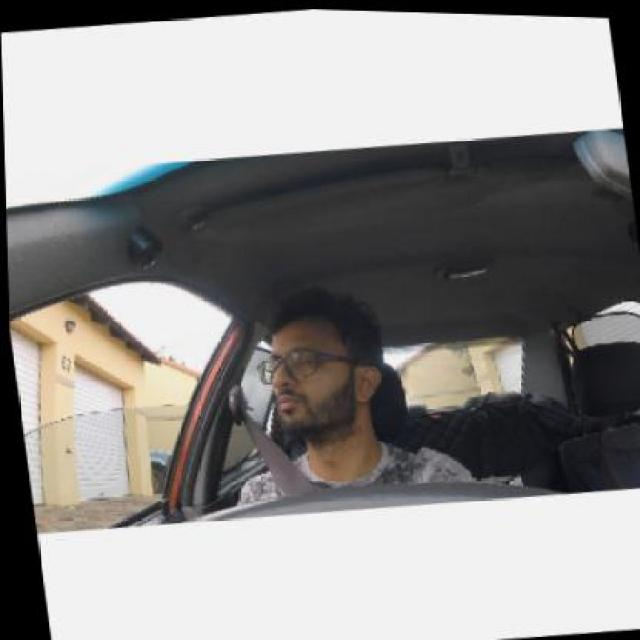person: (258, 287, 384, 442)
